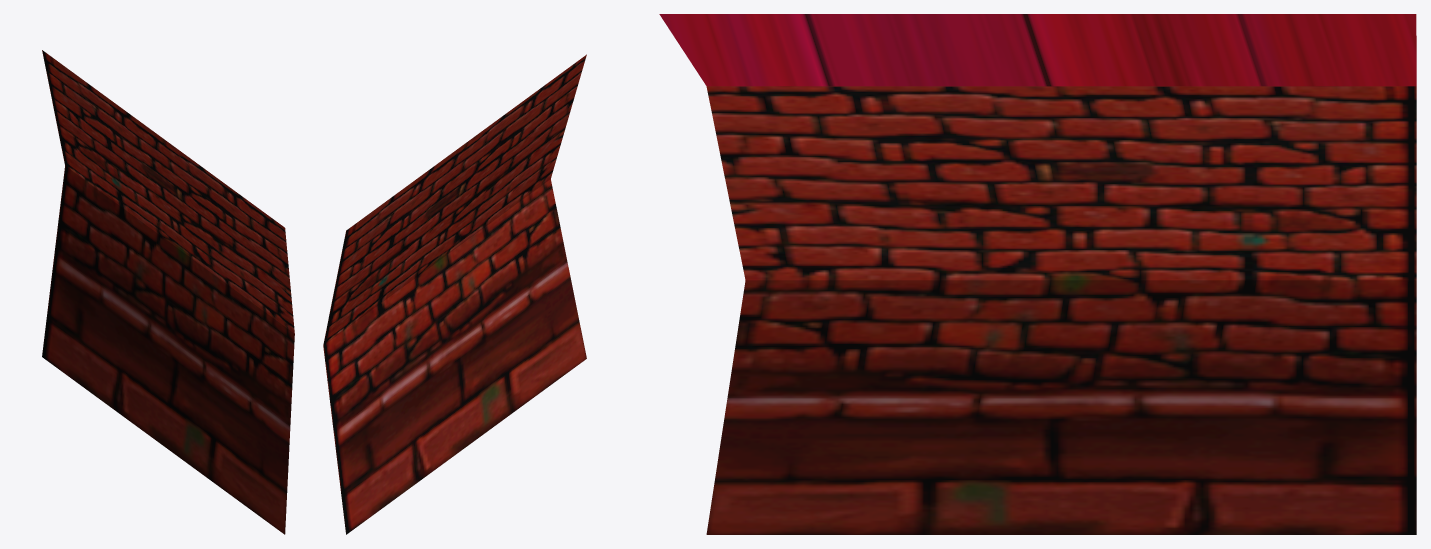
Rendered from W_A2l_xx [Ziegel2]_1158.glb.
3 renders of one model, left to right at view 1: azimuth 30°, elevation 25°; view 2: azimuth 150°, elevation 25°; view 3: azimuth 270°, elevation 25°, orthographic. The views are drawn at different scales.
Parts seen in each view (by area): view 1: pPlaneShape1; view 2: pPlaneShape1; view 3: pPlaneShape1, polySurfaceShape1065.
Boxes of the visible parts, x1,y1,x2,y2 form: pPlaneShape1: (42,50,294,534); pPlaneShape1: (323,54,586,534); pPlaneShape1: (706,86,1416,534); polySurfaceShape1065: (659,14,1416,86).
Size of the model in its own units: 0.0607 by 0.3891 by 0.5333.
2 materials, 2 textured.
